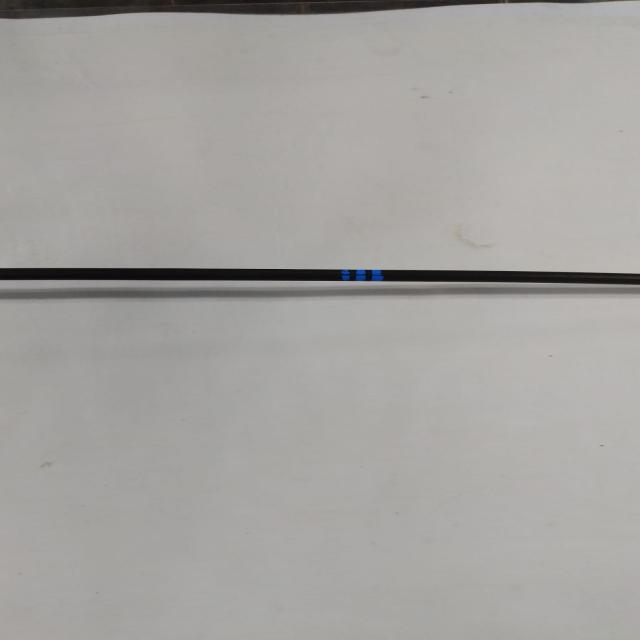blue: (341, 269, 384, 282)
